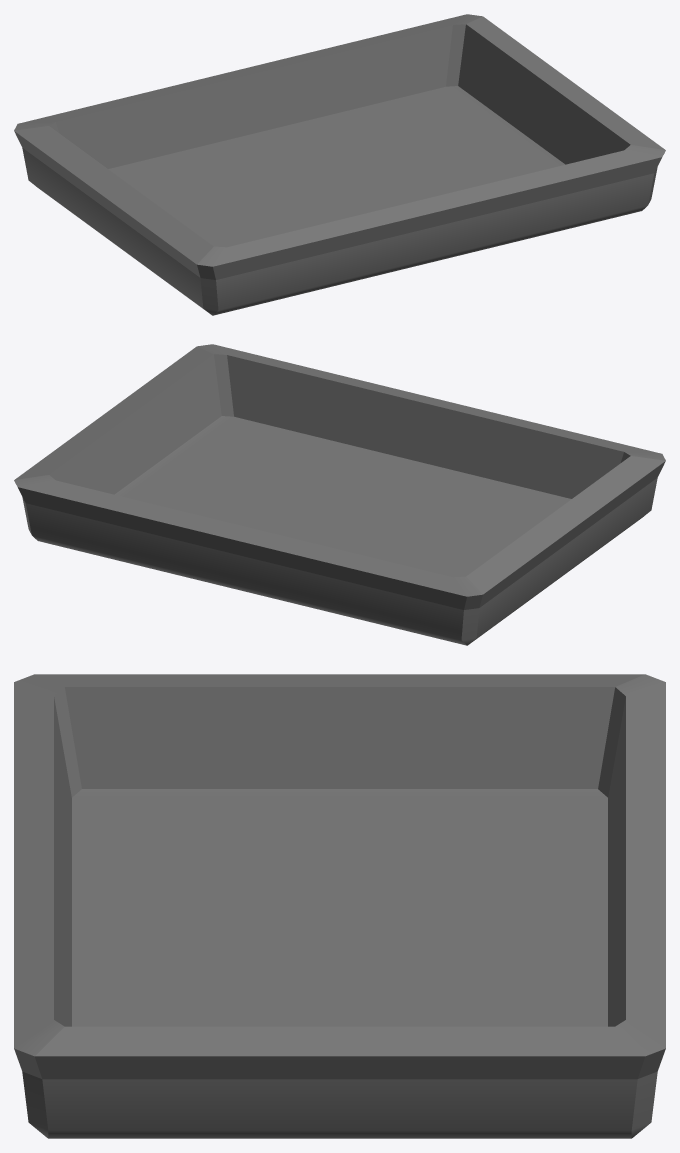
The model's file is Tray 01.fbx.
3 renders of one model, top to bottom at view 1: azimuth 30°, elevation 25°; view 2: azimuth 150°, elevation 25°; view 3: azimuth 270°, elevation 25°, orthographic. The views are drawn at different scales.
Visible parts, largest first — view 1: Tray_01; view 2: Tray_01; view 3: Tray_01.
Part boxes in pixels (x1=…): Tray_01: x1=14, y1=14, x2=665, y2=315; Tray_01: x1=14, y1=344, x2=665, y2=645; Tray_01: x1=14, y1=674, x2=665, y2=1138.
Bounding box in the file's own units: 60.97 × 7.96 × 43.96.
